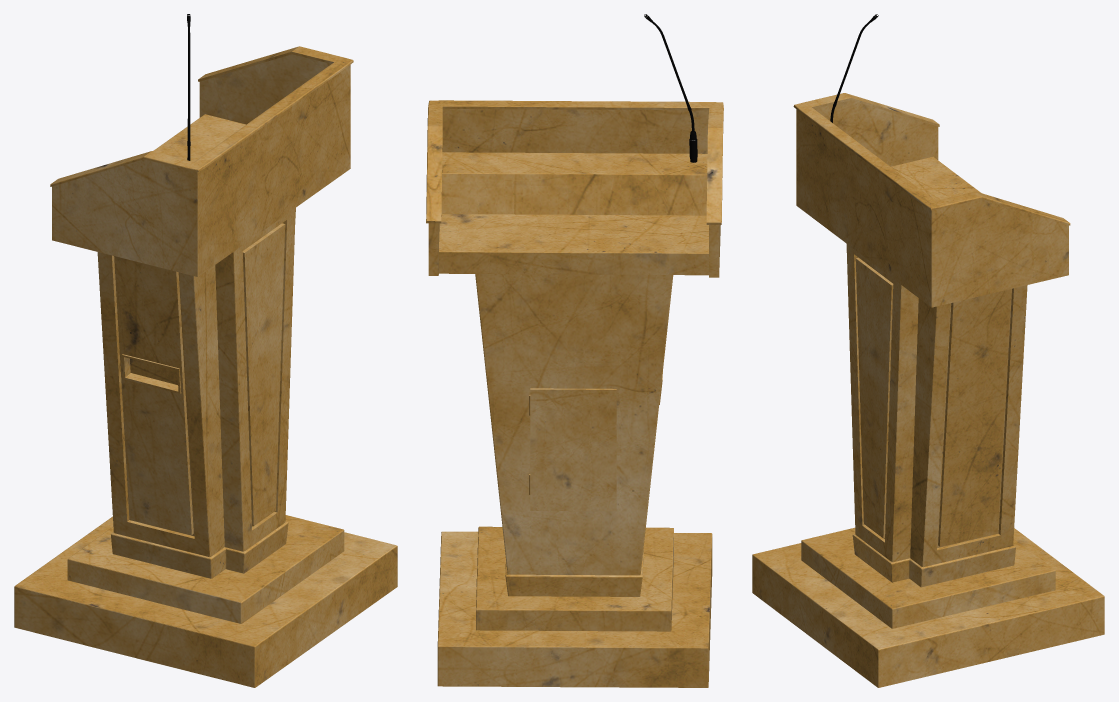
File: Pupitre.fbx
3 views of the same model, side by side, from view 1: azimuth 30°, elevation 25°; view 2: azimuth 150°, elevation 25°; view 3: azimuth 270°, elevation 25° (orthographic). The views are drawn at different scales.
Visible parts, largest first — view 1: Object_4; view 2: Object_4, Object_5; view 3: Object_4.
Boxes of the visible parts, bbox=[...] form: Object_4: bbox=[14, 46, 397, 687]; Object_4: bbox=[426, 100, 723, 687]; Object_5: bbox=[644, 14, 697, 162]; Object_4: bbox=[752, 93, 1104, 687].
Bounding box in the file's own units: 81.34 × 148 × 81.44.
Materials: 5 (2 with a texture image).
